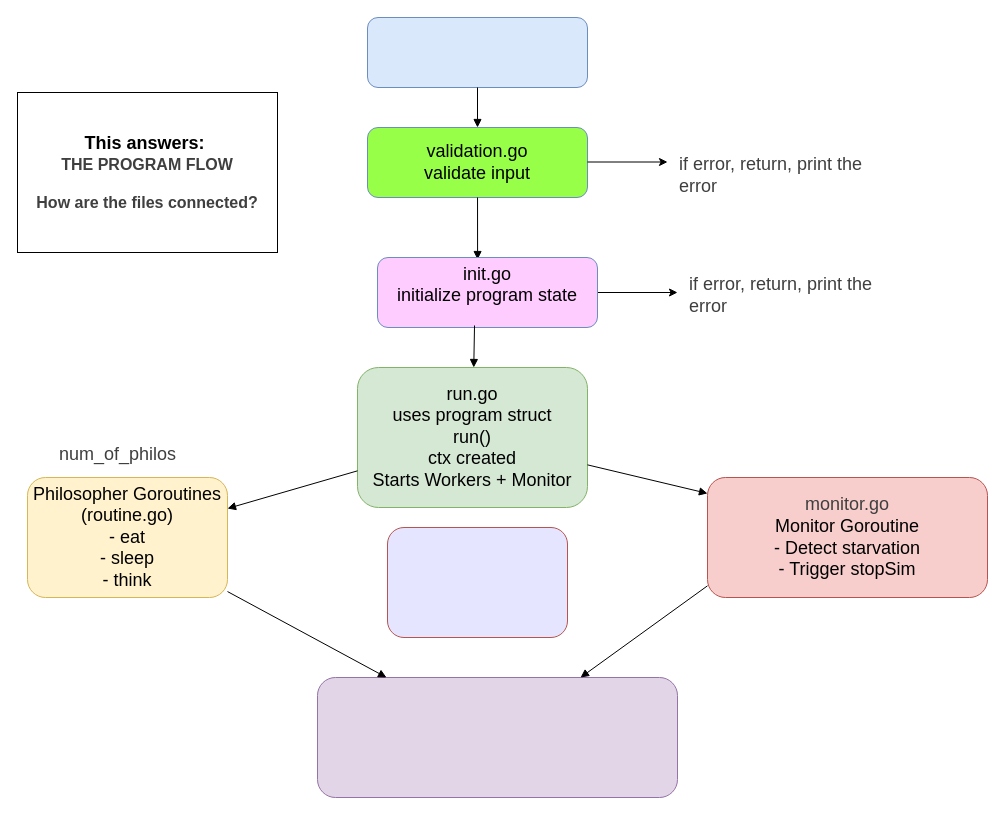
This 1005x815 diagram has some shape labels left out. Here are the shapes that lost their labels. From the top down, the centre of each, then its label:
pixel 477 52: main.go (Orchestrator)
pixel 477 582: ultils.go helpers
pixel 497 737: Shared Resources - forks []sync.Mutex - stopSim (atomic) - logMu (mutex)
